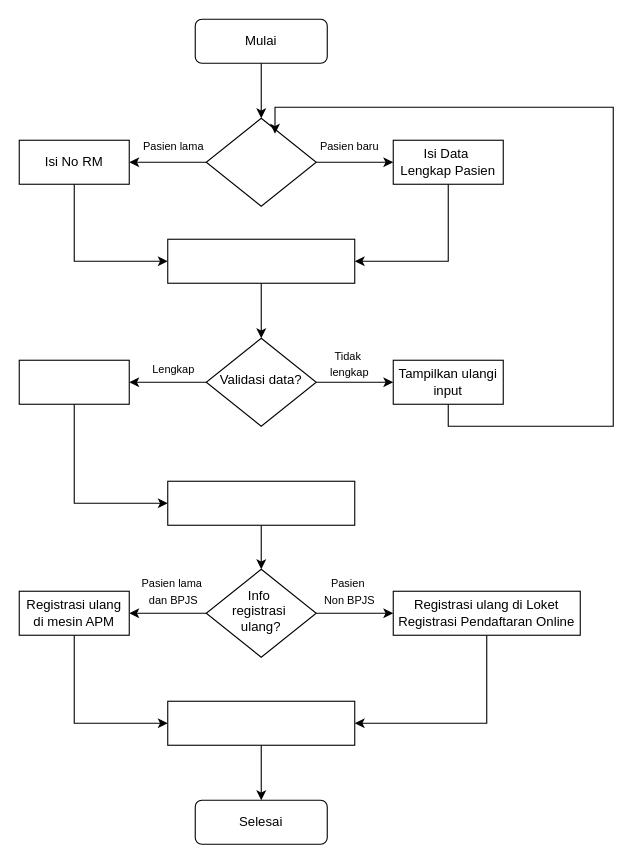
This 641x864 diagram has some shape labels left out. Each missing label, with the centre of its shape:
"Datang ke klinik" belongs at pixel 261 722.
"Isi No Whatsapp, pilihan hari dan waktu kontrol dan dokter." belongs at pixel 261 260.
"Jenis Pasien?" belongs at pixel 260 161.
"Kirim konfirmasi (wa/email)" belongs at pixel 73 381.
"Tampilkan halaman konfirmasi & no pendaftaran" belongs at pixel 261 502.
